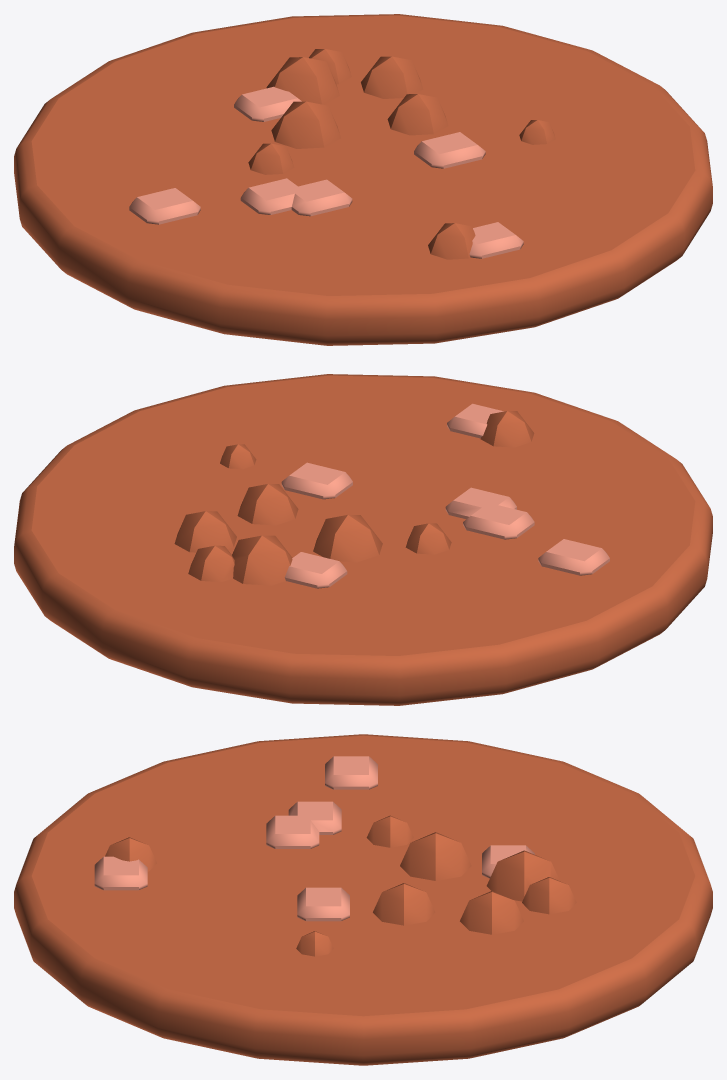
File: kr_soup_tomato.glb
3 views of the same model, one above another, from view 1: azimuth 30°, elevation 25°; view 2: azimuth 150°, elevation 25°; view 3: azimuth 270°, elevation 25° (orthographic).
Parts seen in each view (by area): view 1: vc_m0_r2, vc_m0_r4; view 2: vc_m0_r2, vc_m0_r4; view 3: vc_m0_r2, vc_m0_r4.
Part boxes in pixels (left/top/right/bottom): vc_m0_r2: left=14, top=14, right=712, bottom=345; vc_m0_r4: left=129, top=86, right=523, bottom=258; vc_m0_r2: left=14, top=374, right=712, bottom=705; vc_m0_r4: left=281, top=403, right=609, bottom=588; vc_m0_r2: left=14, top=734, right=712, bottom=1065; vc_m0_r4: left=94, top=756, right=534, bottom=921.
Bounding box in the file's own units: 0.396 × 0.0515 × 0.396.
